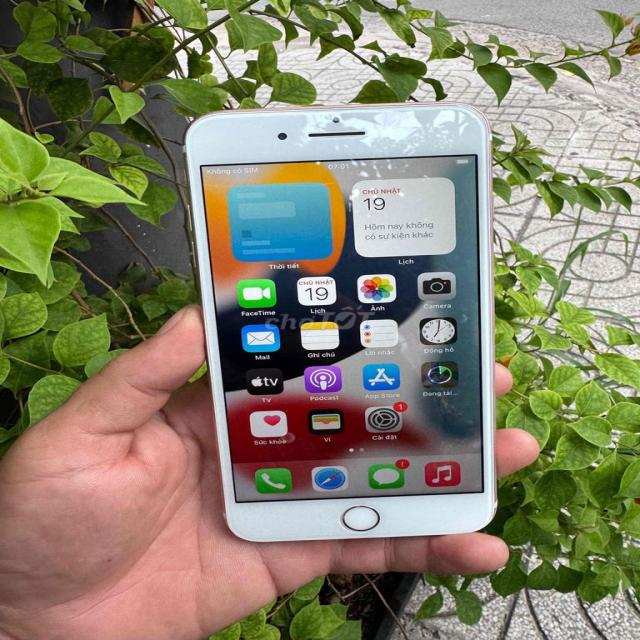gen_7_8: (187, 101, 501, 548)
